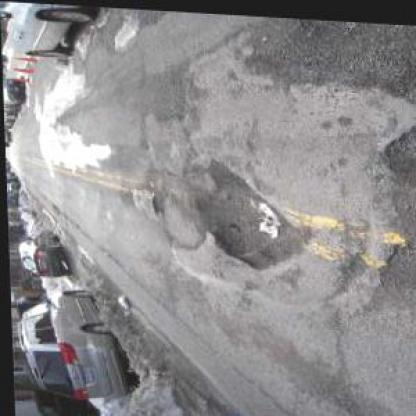pothole: (144, 194, 164, 212)
